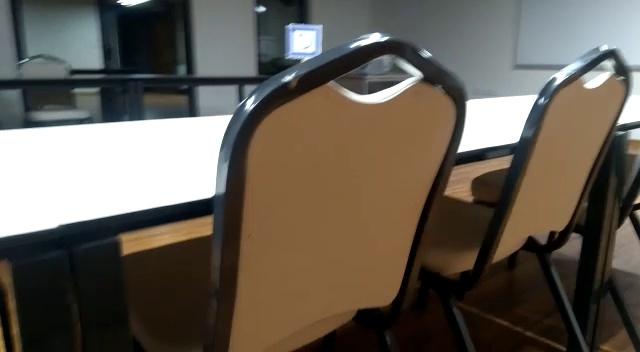durak: (286, 25, 323, 57)
